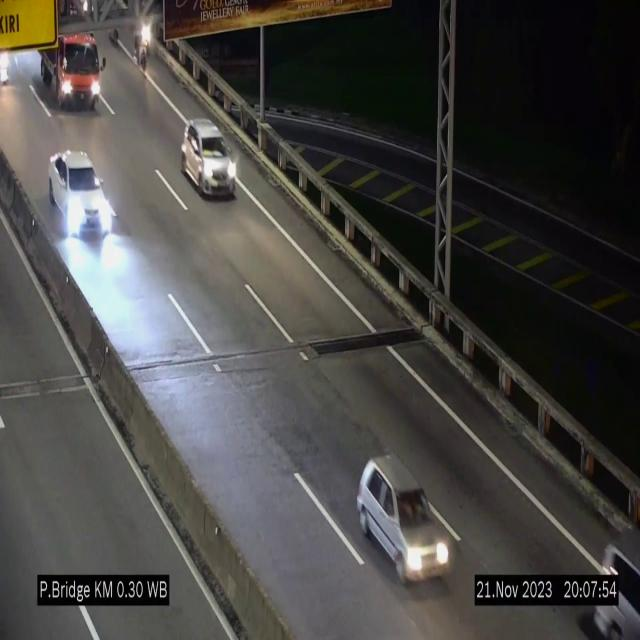Car: (359, 455, 451, 589), (49, 150, 113, 236), (181, 119, 236, 197)
Motorcycle: (131, 16, 153, 84)
Truck: (33, 18, 105, 122)
